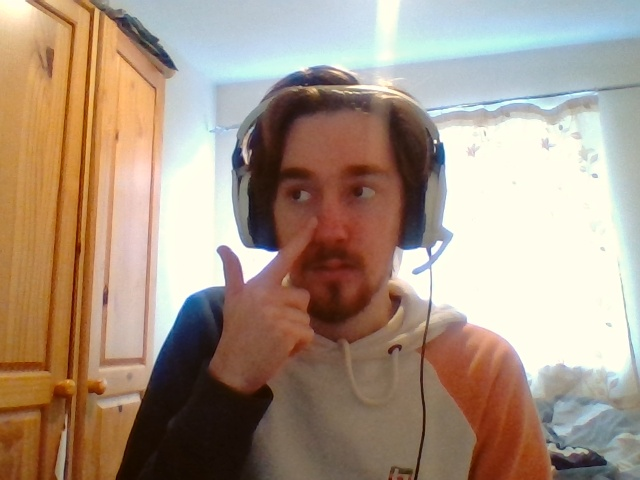luck: (217, 216, 317, 359)
